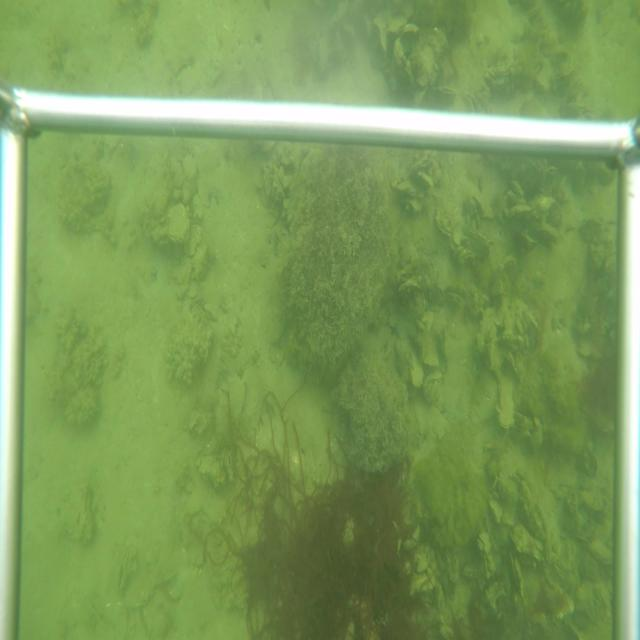Oyster-Closed: (165, 202, 189, 248), (586, 537, 612, 565), (373, 16, 389, 60), (502, 204, 532, 222), (485, 498, 502, 527), (512, 230, 537, 249), (387, 15, 407, 36), (400, 197, 423, 214), (454, 250, 476, 265), (414, 170, 433, 187), (433, 86, 455, 99)
Oyster-Open: (462, 90, 482, 112)
